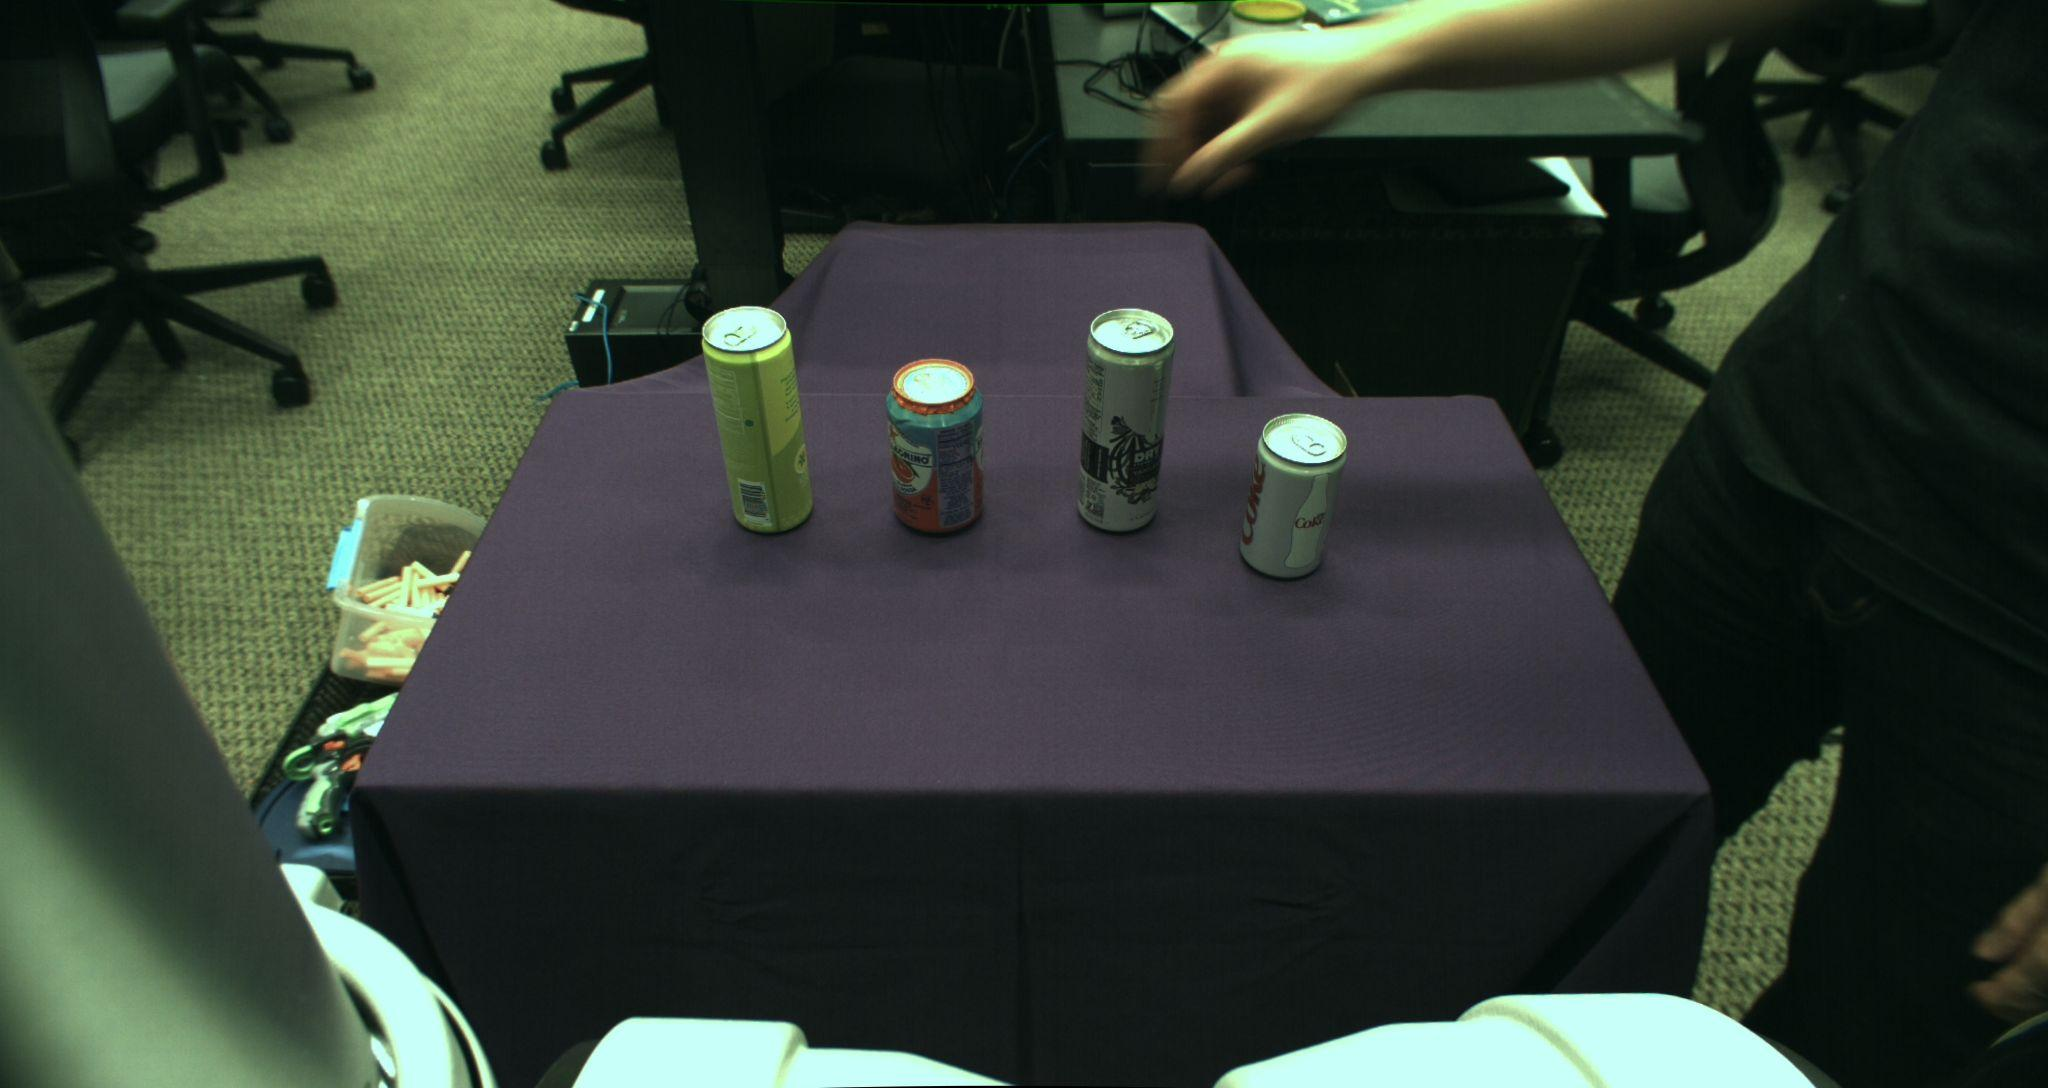can_diet_coke_small: (1238, 411, 1348, 580)
can_dry_sparkling_vanilla_bean: (1078, 306, 1174, 534)
can_izze_fusions_lemon_lime: (702, 304, 815, 532)
can_sanpellegrino_blood_orange: (884, 358, 985, 534)
